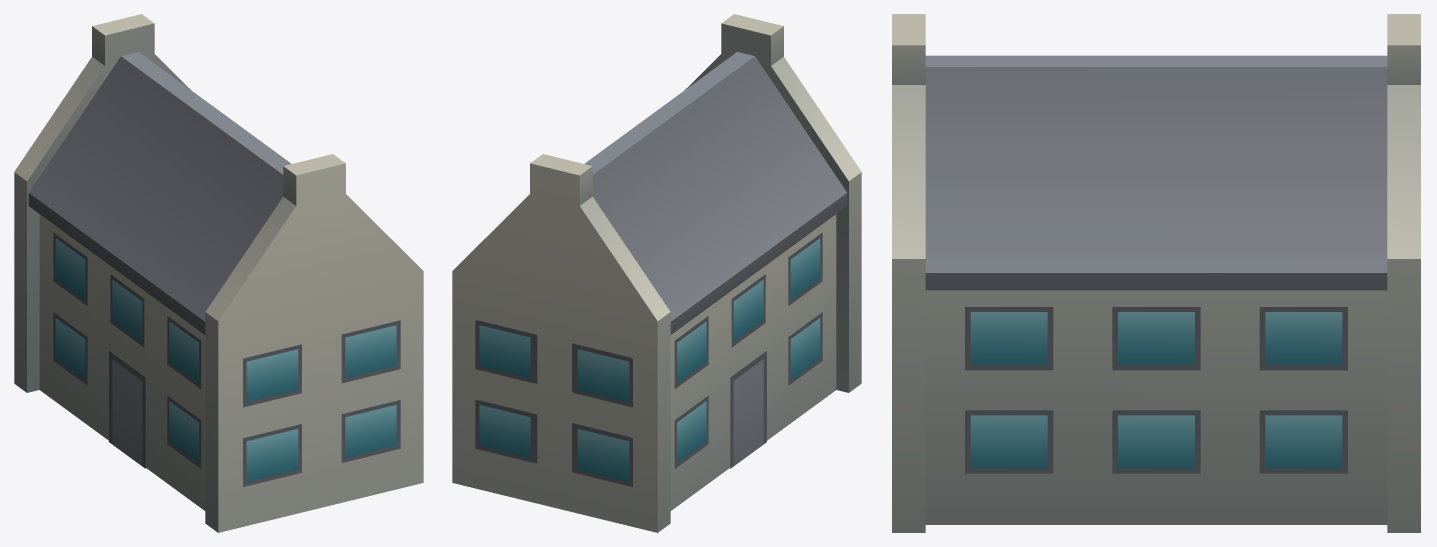
File: House_X_A.fbx
3 renders of one model, left to right at view 1: azimuth 30°, elevation 25°; view 2: azimuth 150°, elevation 25°; view 3: azimuth 270°, elevation 25°, orthographic. The views are drawn at different scales.
Visible parts, largest first — view 1: House_X_A; view 2: House_X_A; view 3: House_X_A.
Part boxes in pixels (left/top/right/bottom): House_X_A: left=14, top=14, right=423, bottom=532; House_X_A: left=452, top=14, right=861, bottom=532; House_X_A: left=892, top=14, right=1420, bottom=532.
Size of the model in its own units: 722 by 1135 by 1250.
